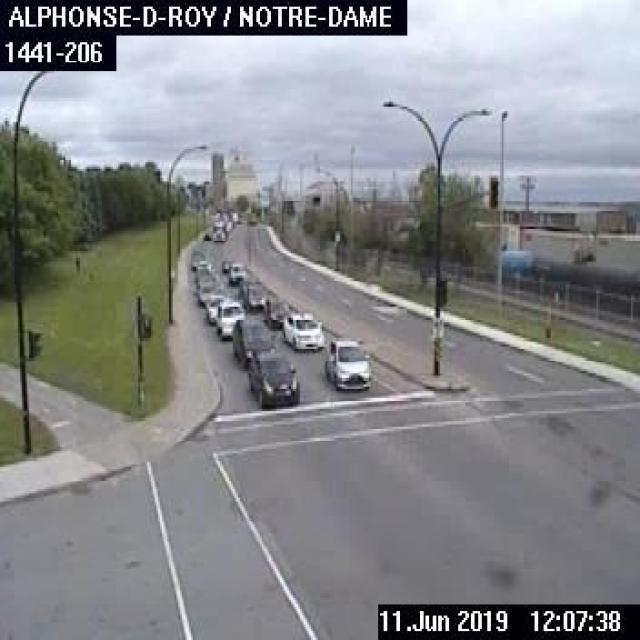vehicle: (321, 331, 373, 395), (245, 347, 298, 407), (228, 316, 278, 366), (277, 306, 325, 348), (214, 299, 246, 338), (203, 290, 230, 326), (262, 294, 290, 328), (243, 281, 267, 311), (196, 278, 221, 304), (226, 261, 247, 285), (212, 216, 228, 242)
